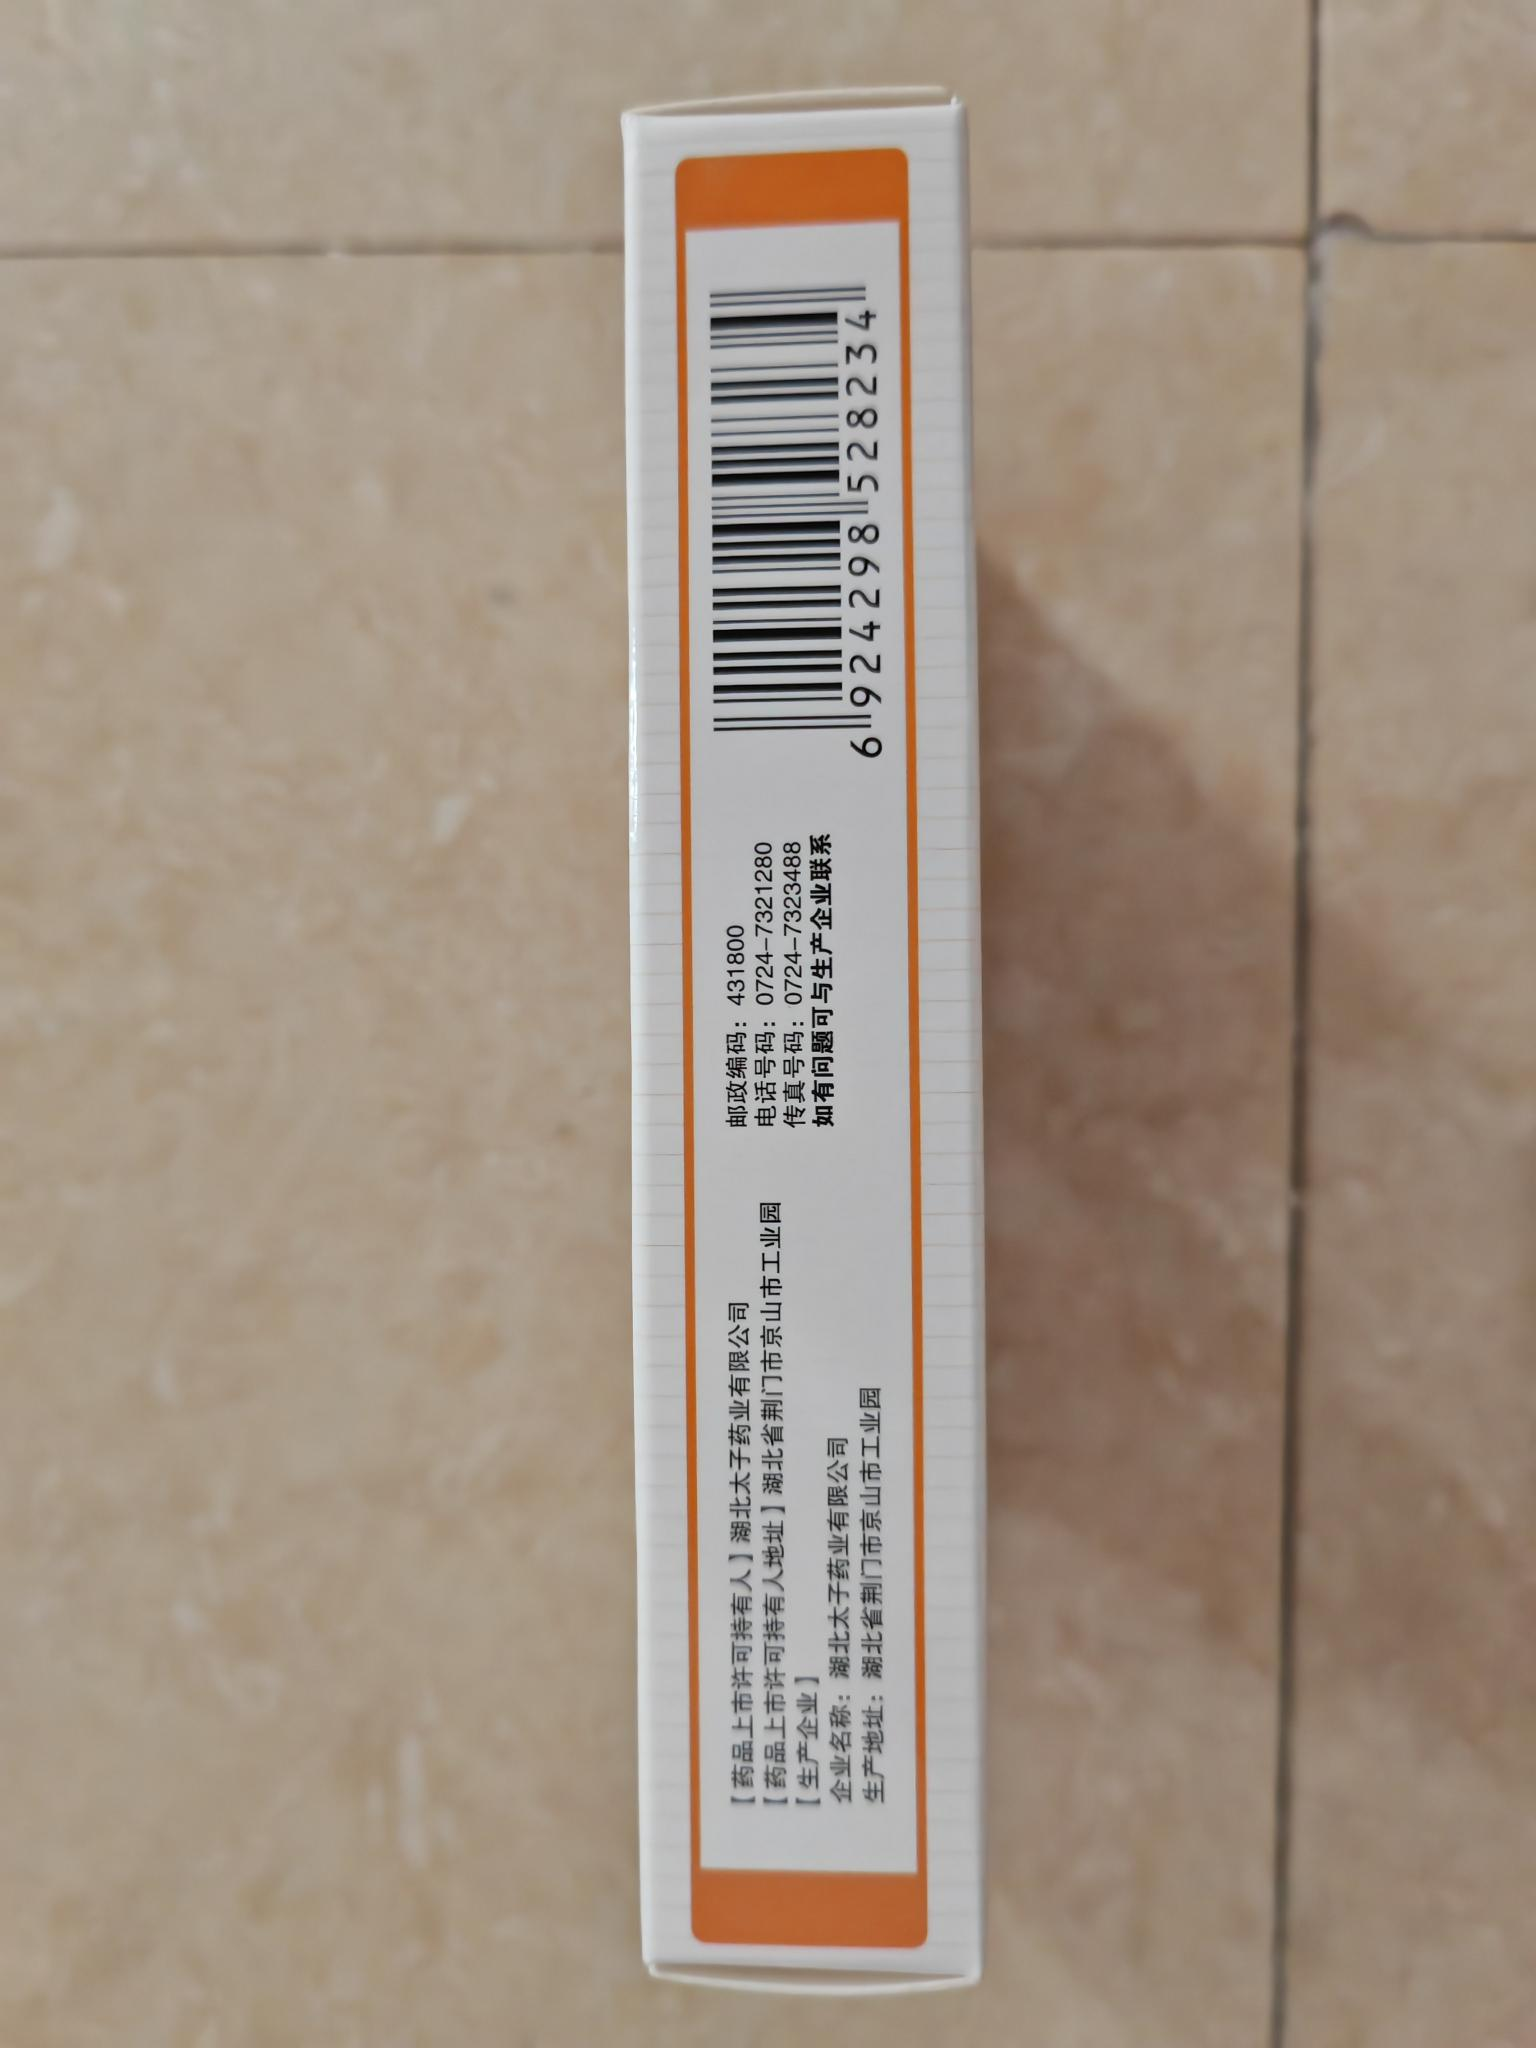Medicine5: (595, 73, 1025, 2016)
